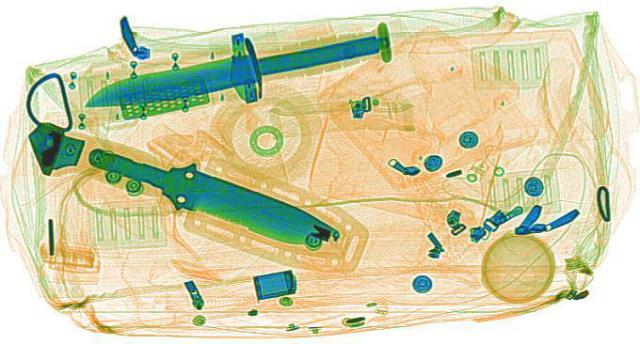Knife: (65, 139, 353, 249), (71, 26, 389, 113)
